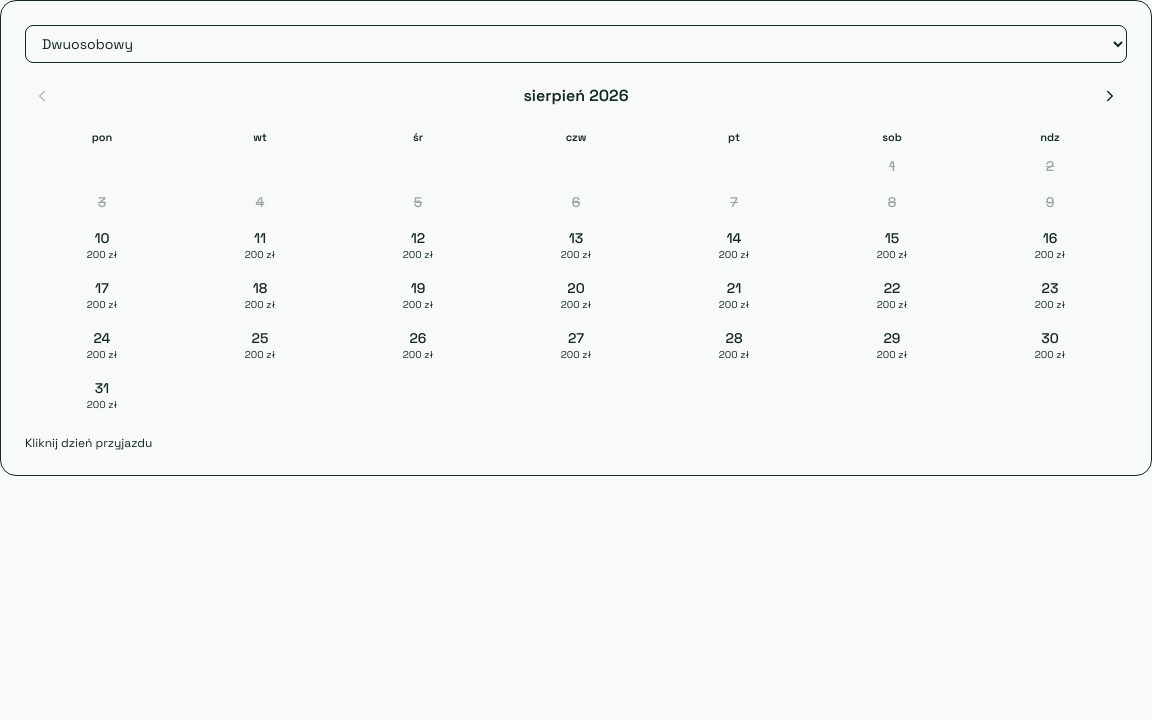
Scenario: wybór terminu › pierwsze kliknięcie ustawia przyjazd, drugie wyjazd
Click the button "12 200 zł".
click(418, 245)  # box [341, 222, 495, 268]
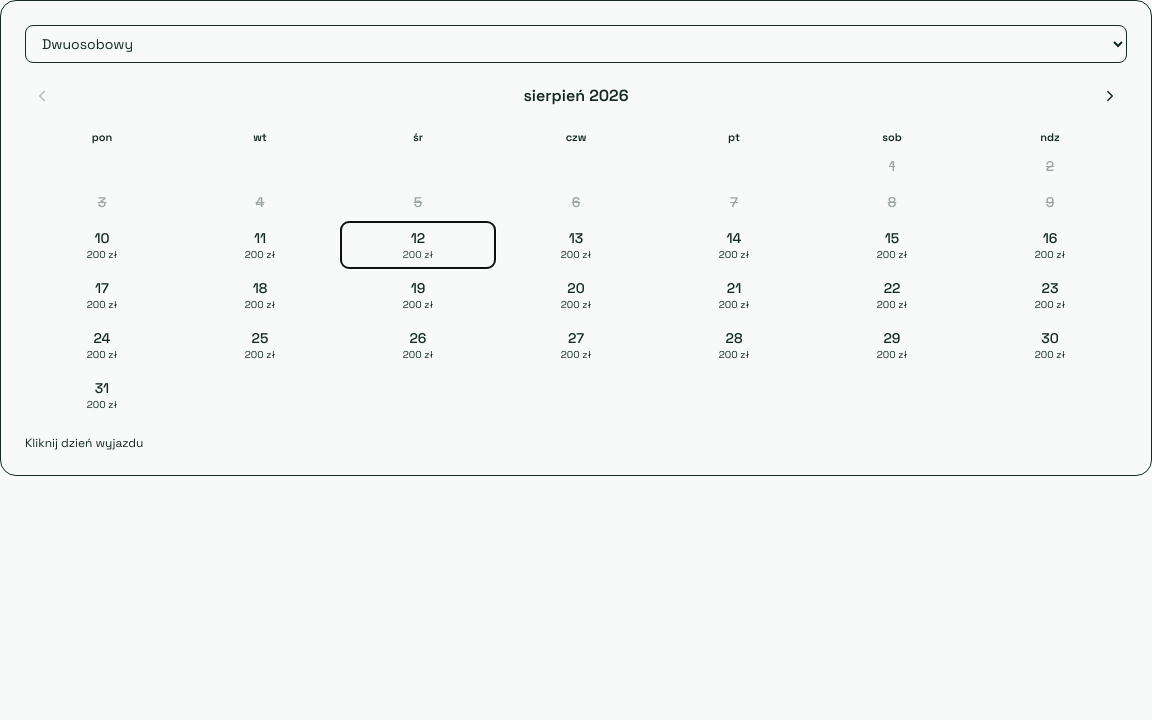
Check: the text "Kliknij dzień wyjazdu" is shown, box [25, 435, 143, 451]
Click the button "15 200 zł".
click(892, 245)  # box [815, 222, 969, 268]
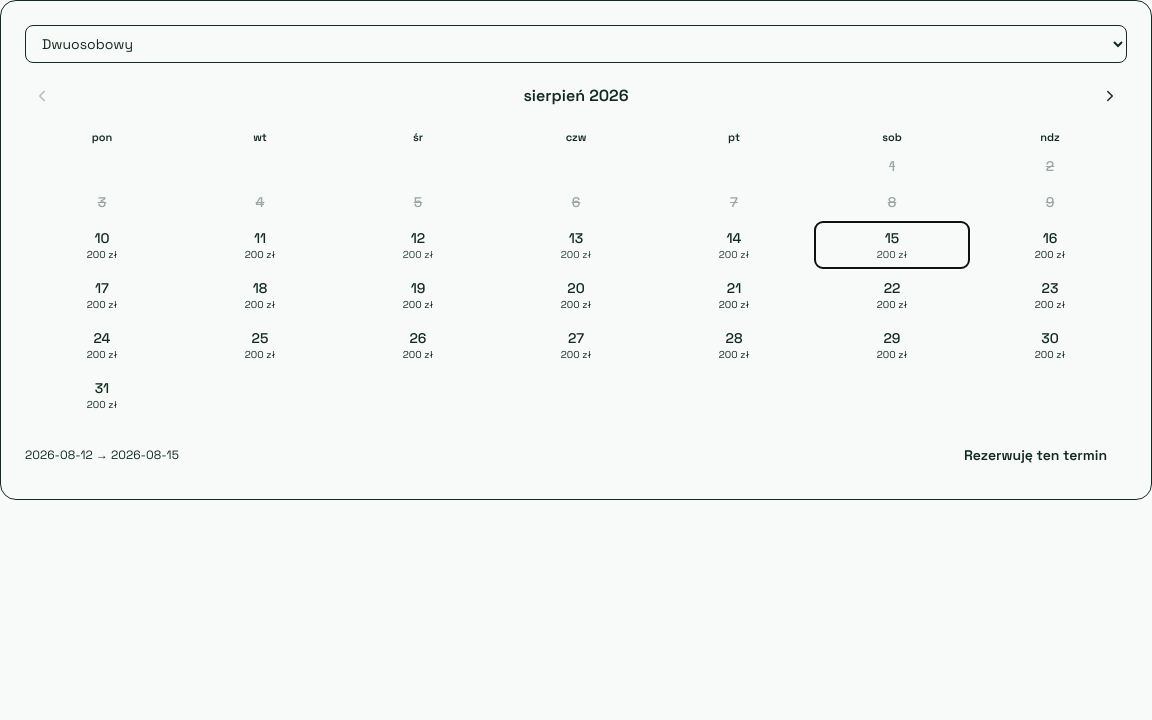
Check: the text "2026-08-12 → 2026-08-15" is shown, box [25, 447, 179, 463]
